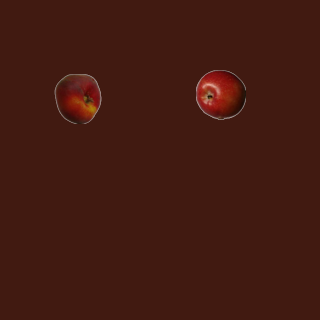Apple Braeburn: (195, 69, 245, 119)
Nectarine Flat: (52, 73, 102, 123)
